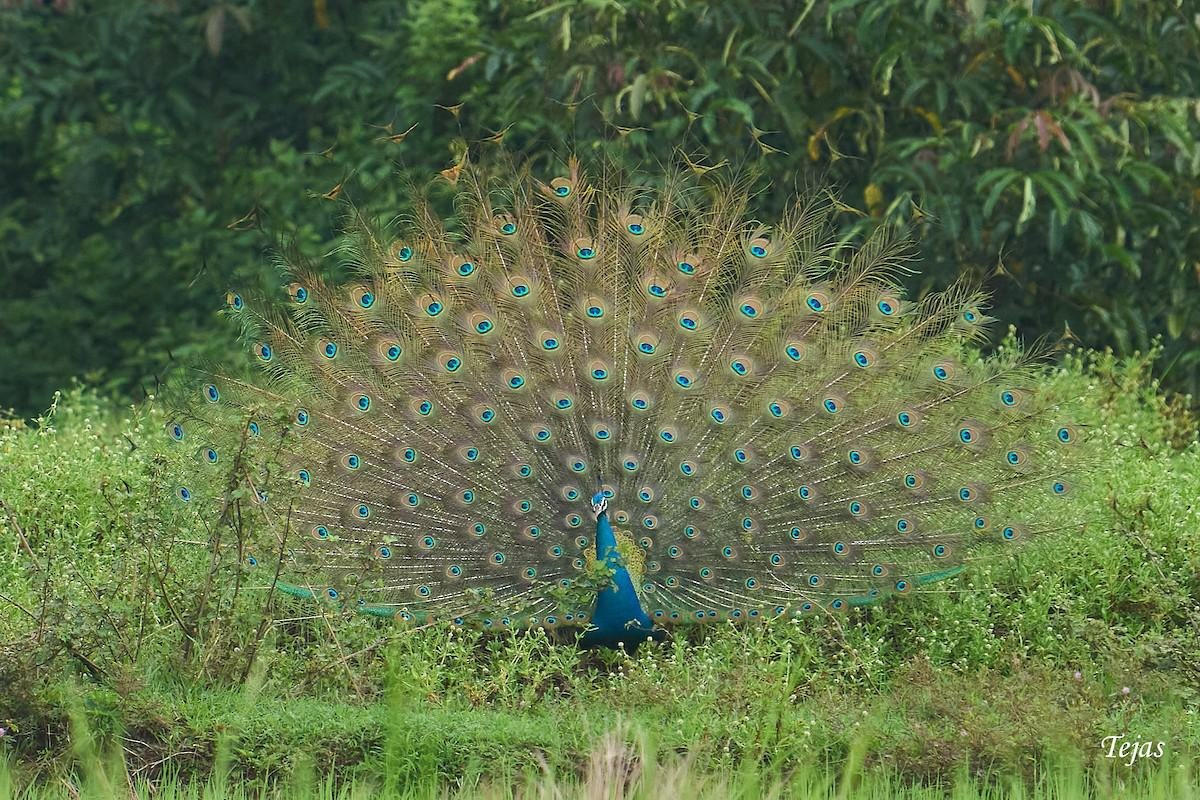peacock: (227, 137, 1101, 720)
